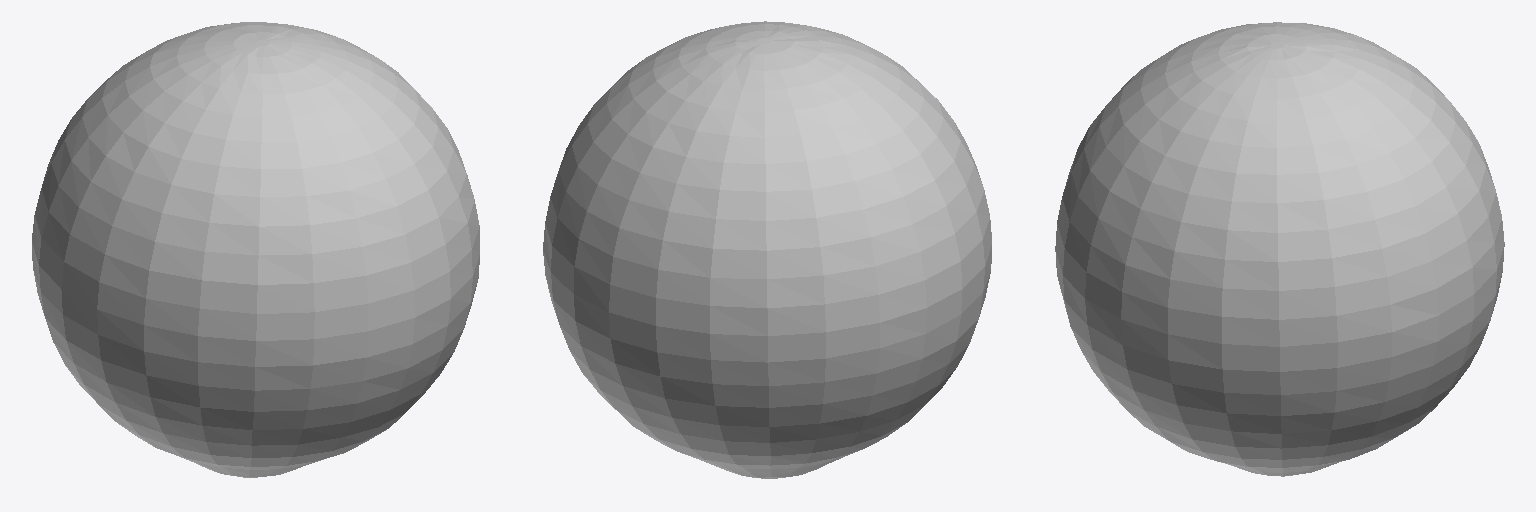
The model's file is Cornea_L.obj.
3 views of the same model, side by side, from view 1: azimuth 30°, elevation 25°; view 2: azimuth 150°, elevation 25°; view 3: azimuth 270°, elevation 25° (orthographic).
Parts seen in each view (by area): view 1: Cornea_L; view 2: Cornea_L; view 3: Cornea_L.
Boxes of the visible parts, x1,y1,x2,y2 form: Cornea_L: [32, 22, 479, 477]; Cornea_L: [543, 21, 991, 478]; Cornea_L: [1055, 22, 1504, 476].
Size of the model in its own units: 0.0266 by 0.0278 by 0.0266.